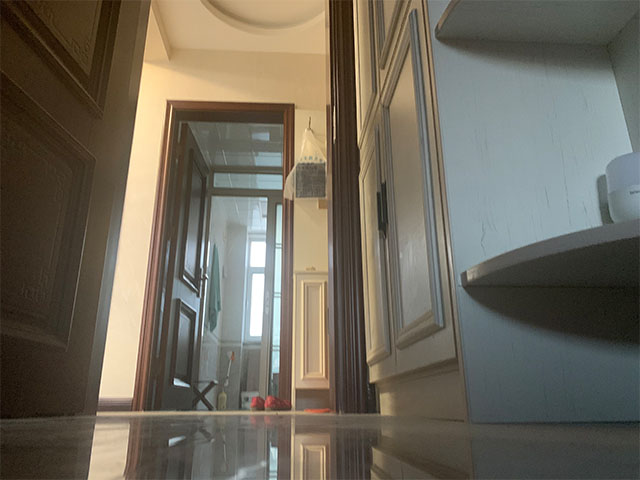cabinet: (350, 1, 640, 424)
stool: (198, 378, 219, 411)
